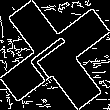L_NE: (25, 27, 85, 83)
